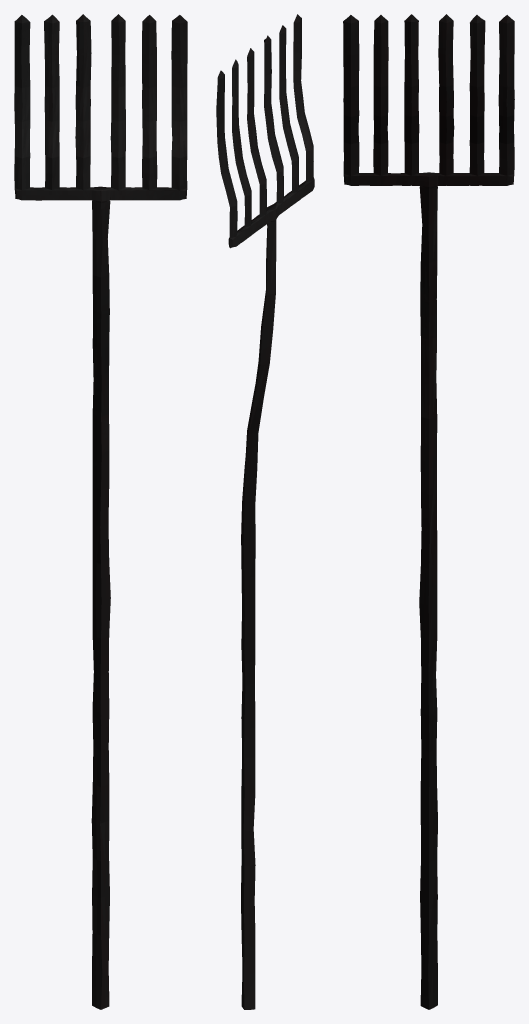
File: pitchfork.obj
The picture shows the model from 3 angles, left to right: view 1: azimuth 90°, elevation 25°; view 2: azimuth 150°, elevation 25°; view 3: azimuth 270°, elevation 25°; orthographic projection. The views are drawn at different scales.
Visible parts, largest first — view 1: Circle; view 2: Circle; view 3: Circle.
Part boxes in pixels (<box>): Circle: <box>14,14,187,1009</box>; Circle: <box>216,14,314,1009</box>; Circle: <box>343,14,514,1009</box>.
Size of the model in its own units: 0.7707 by 20.05 by 3.15.
